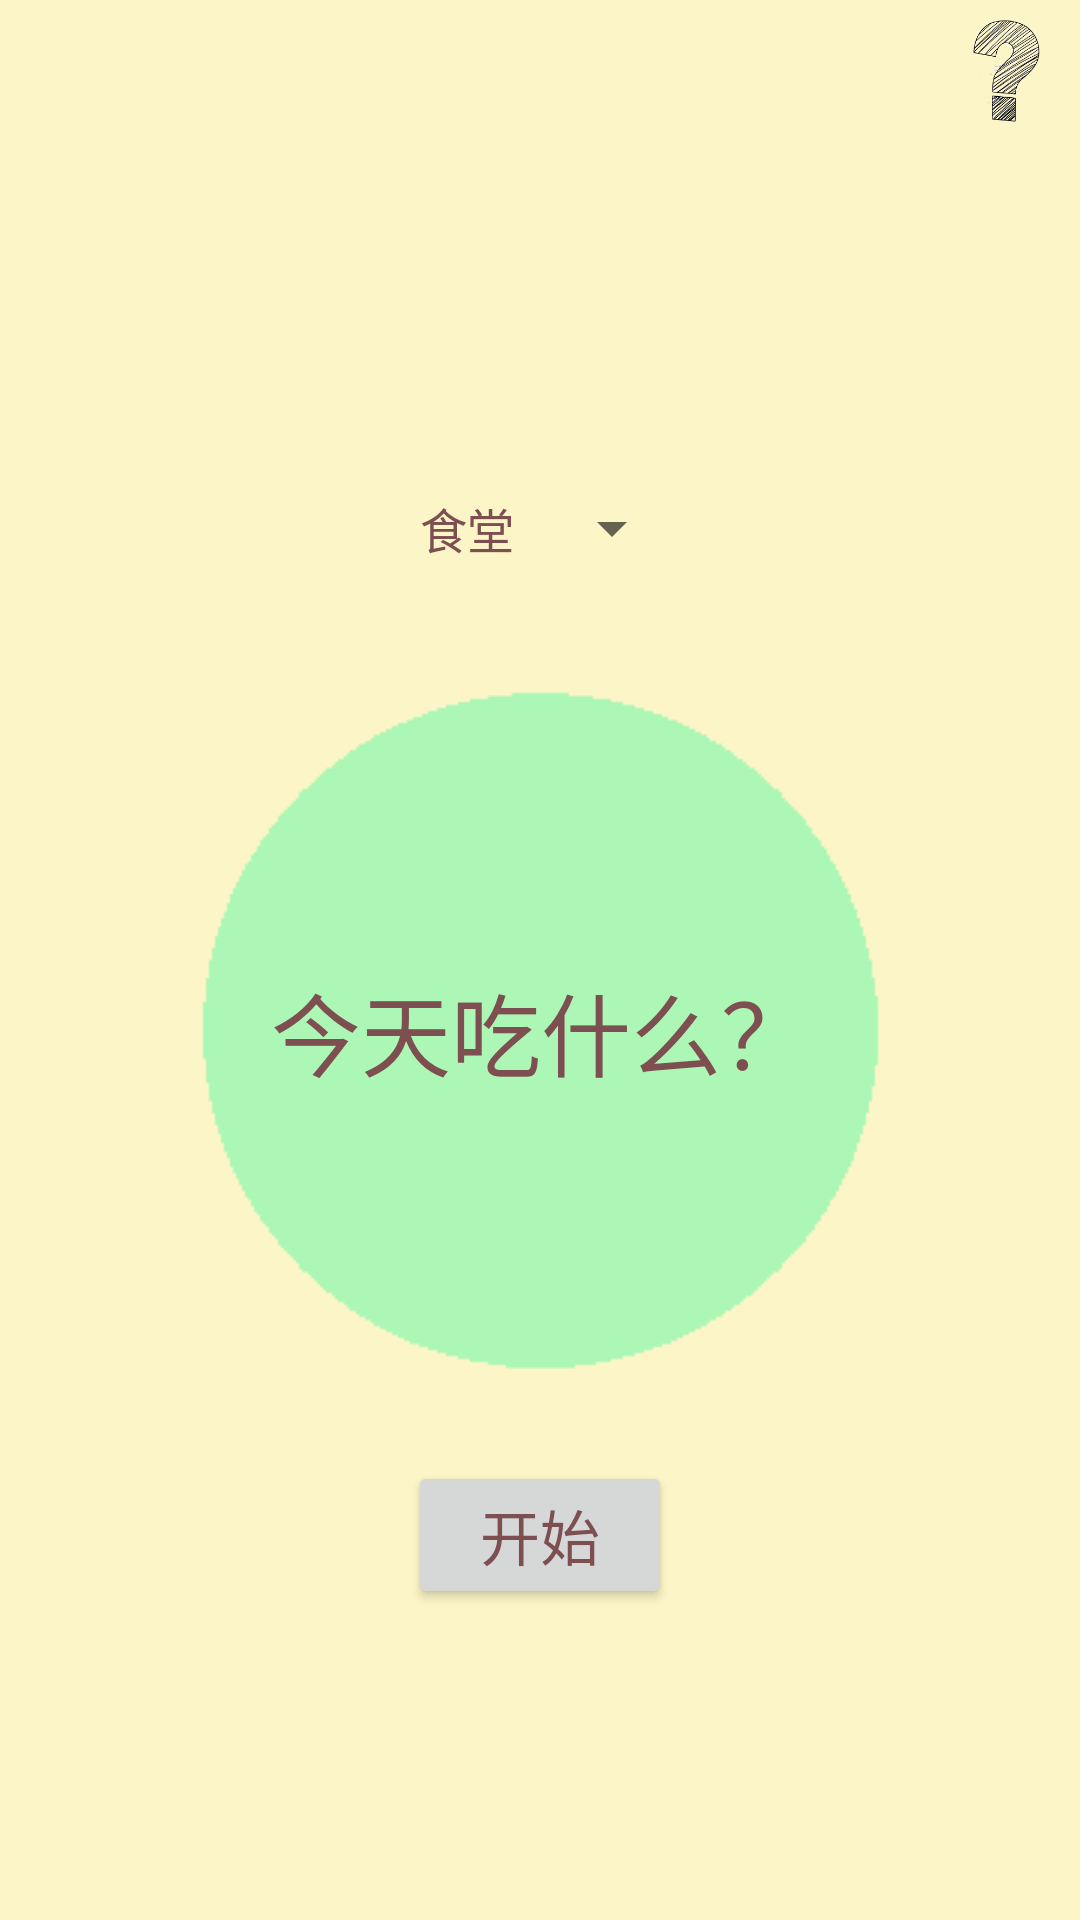

Where to tap for icons on this 1080x1920 app screen, as point (x, y):
ask: point (1006, 71)
